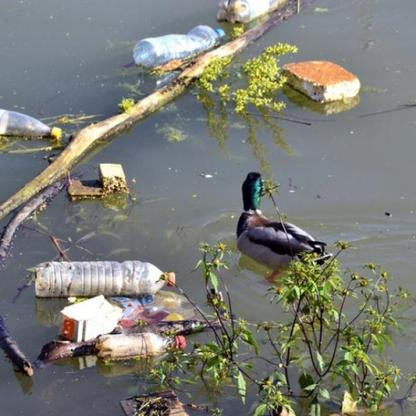foam: (284, 59, 360, 100)
plastic bottle: (32, 260, 175, 297), (132, 24, 225, 65), (1, 107, 61, 141), (96, 333, 187, 355), (216, 1, 294, 22)
